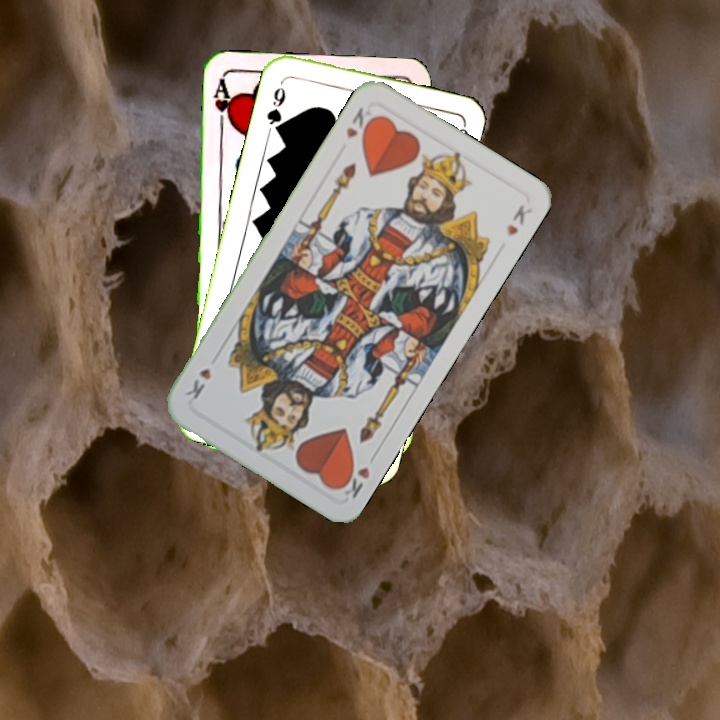G9: (262, 76, 288, 136)
HA: (209, 74, 236, 133)
HK: (334, 448, 380, 502), (341, 103, 378, 143)
